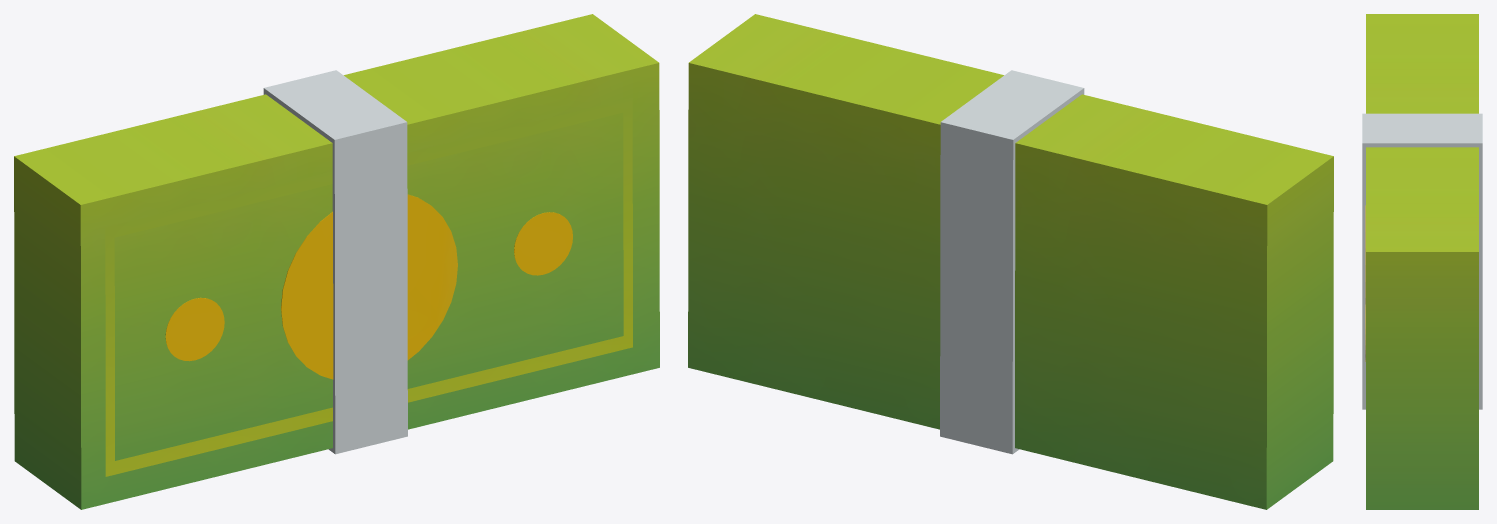
The model's file is Money.fbx.
3 views of the same model, side by side, from view 1: azimuth 30°, elevation 25°; view 2: azimuth 150°, elevation 25°; view 3: azimuth 270°, elevation 25° (orthographic). The views are drawn at different scales.
Visible parts, largest first — view 1: Money; view 2: Money; view 3: Money.
Part boxes in pixels (x1=…): Money: x1=14, y1=14, x2=659, y2=509; Money: x1=688, y1=14, x2=1333, y2=509; Money: x1=1362, y1=14, x2=1482, y2=509.
Size of the model in its own units: 120 by 62.24 by 25.45.
